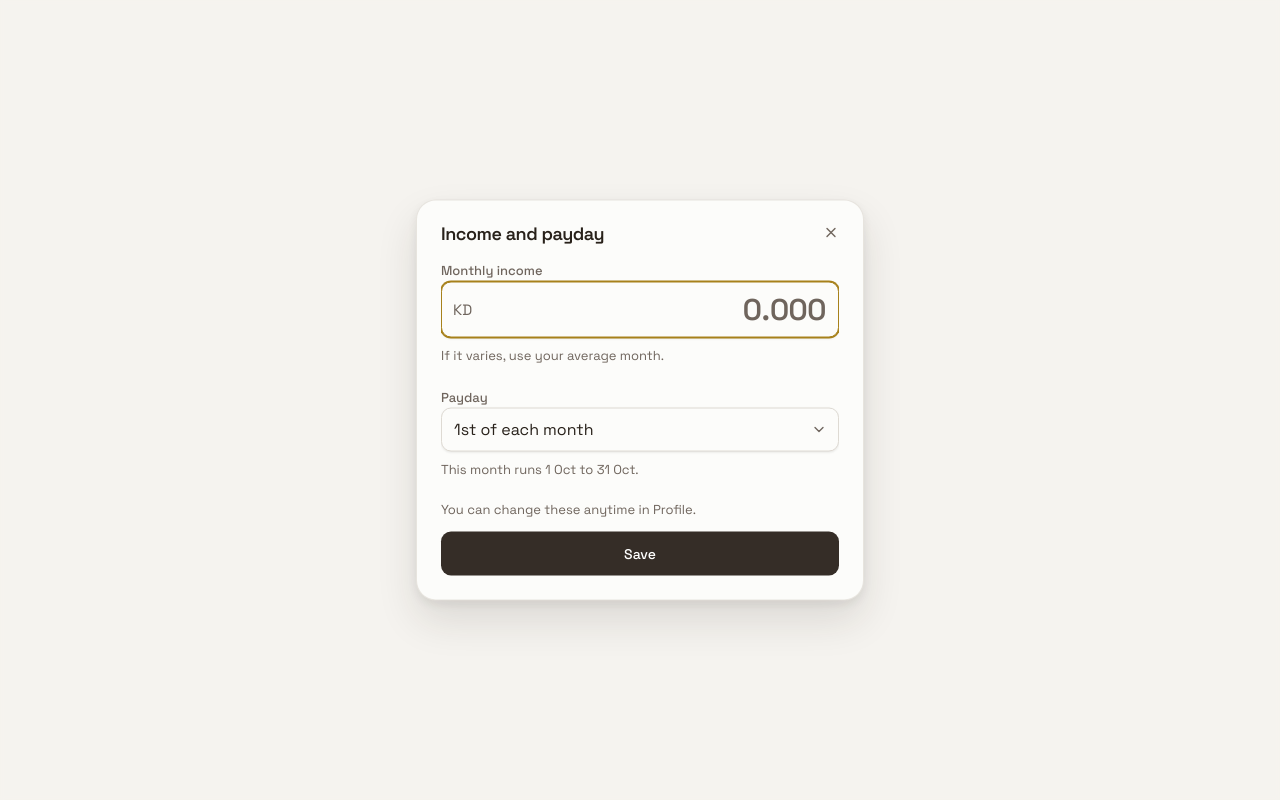
Scenario: Income and payday sheet — payday (MOB-R105 D2) › labels each day 'of each month' and names this month from the Kuwait clock as she picks
Check: the text "This month runs 1 Oct to 31 Oct." is shown, box [441,460,639,478]
Select "25th of each month" in the dropdown labelled "Payday" at (640, 430), box [441,408,839,452]
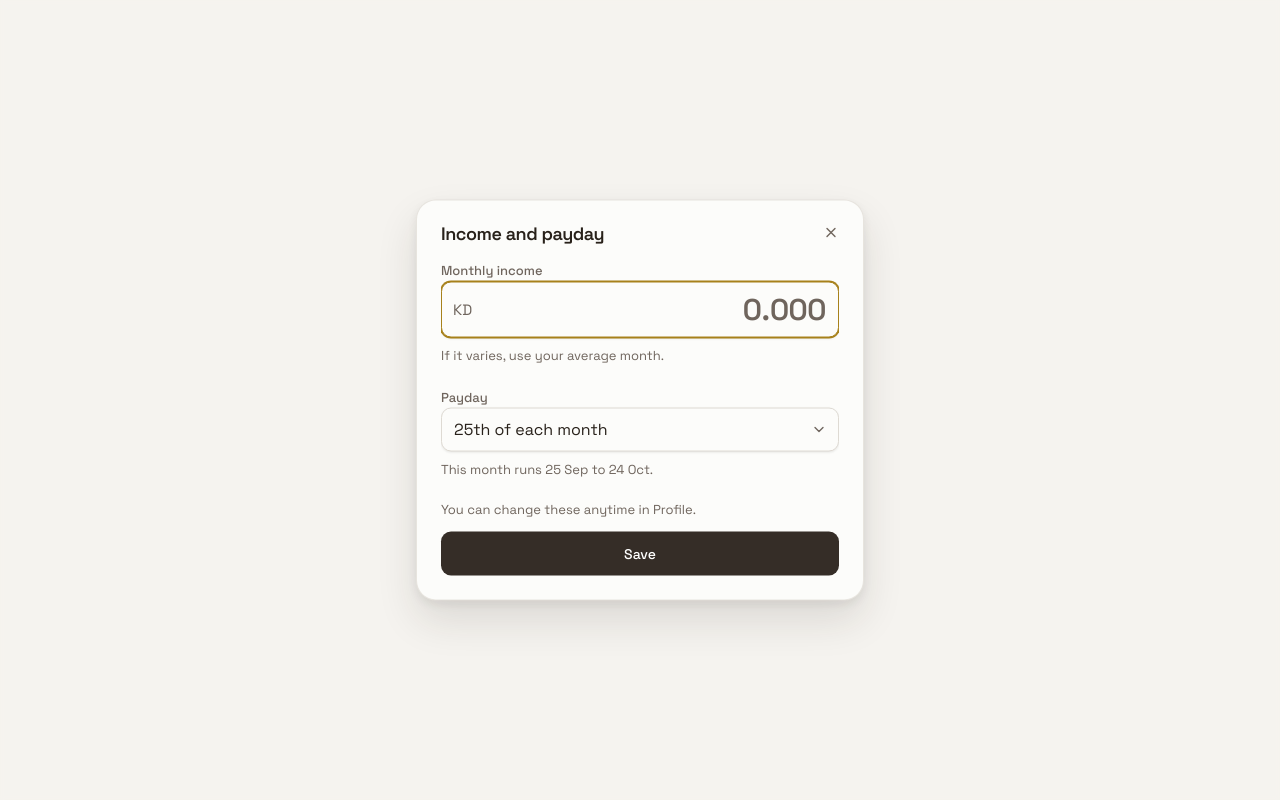
Check: the text "This month runs 25 Sep to 24 Oct." is shown, box [441,460,653,478]
Select "31st of each month" in the dropdown labelled "Payday" at (640, 430), box [441,408,839,452]
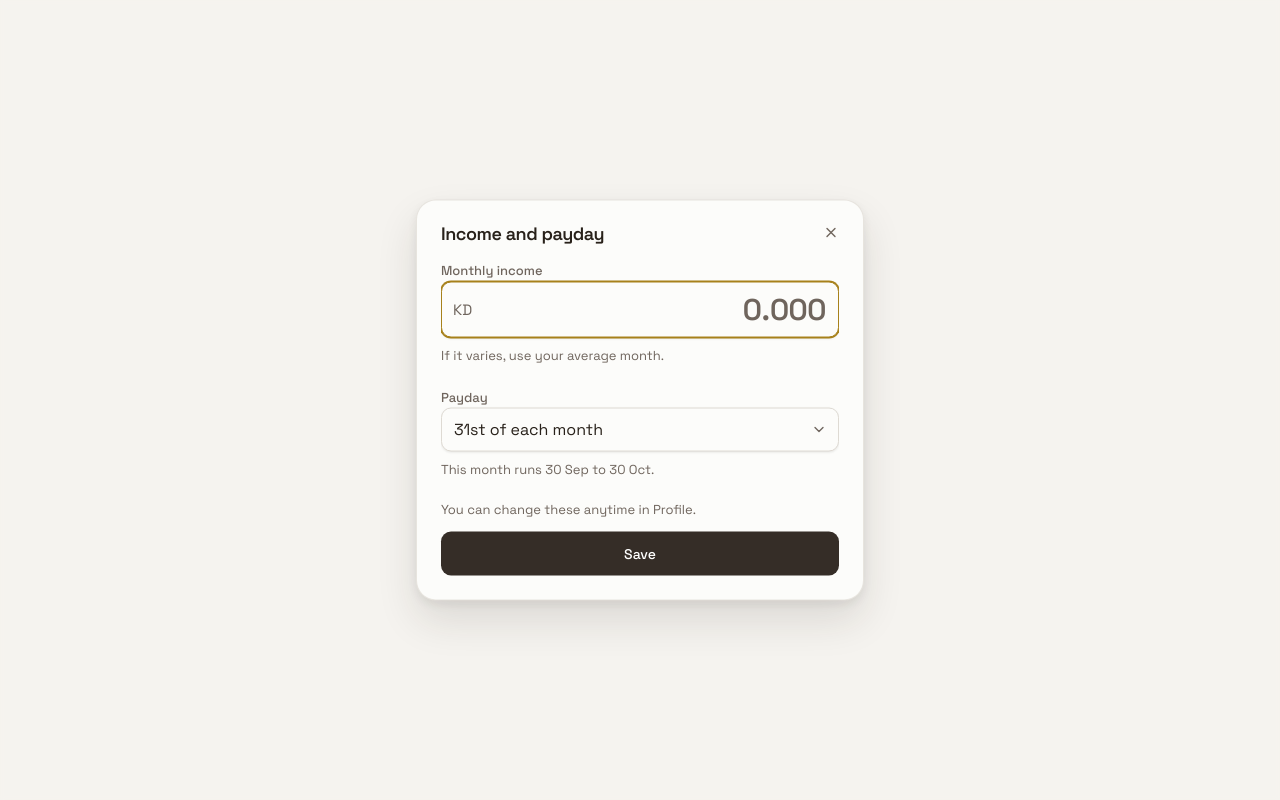
Check: the text "This month runs 30 Sep to 30 Oct." is shown, box [441,460,654,478]
Select "16th of each month" in the dropdown labelled "Payday" at (640, 430), box [441,408,839,452]
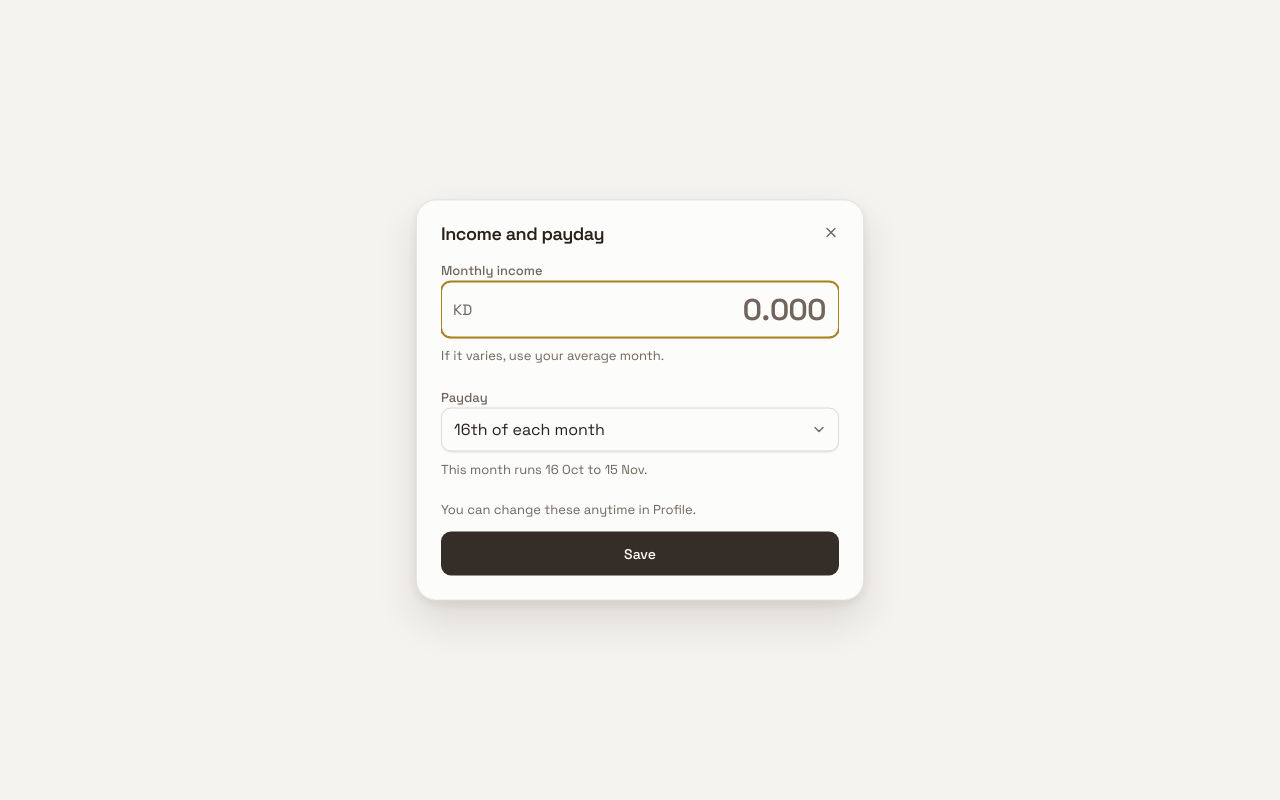
Check: the text "This month runs 16 Oct to 15 Nov." is shown, box [441,460,647,478]
